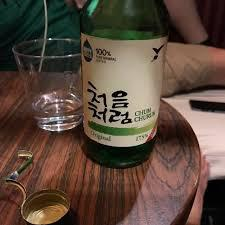soju: (78, 4, 164, 168)
